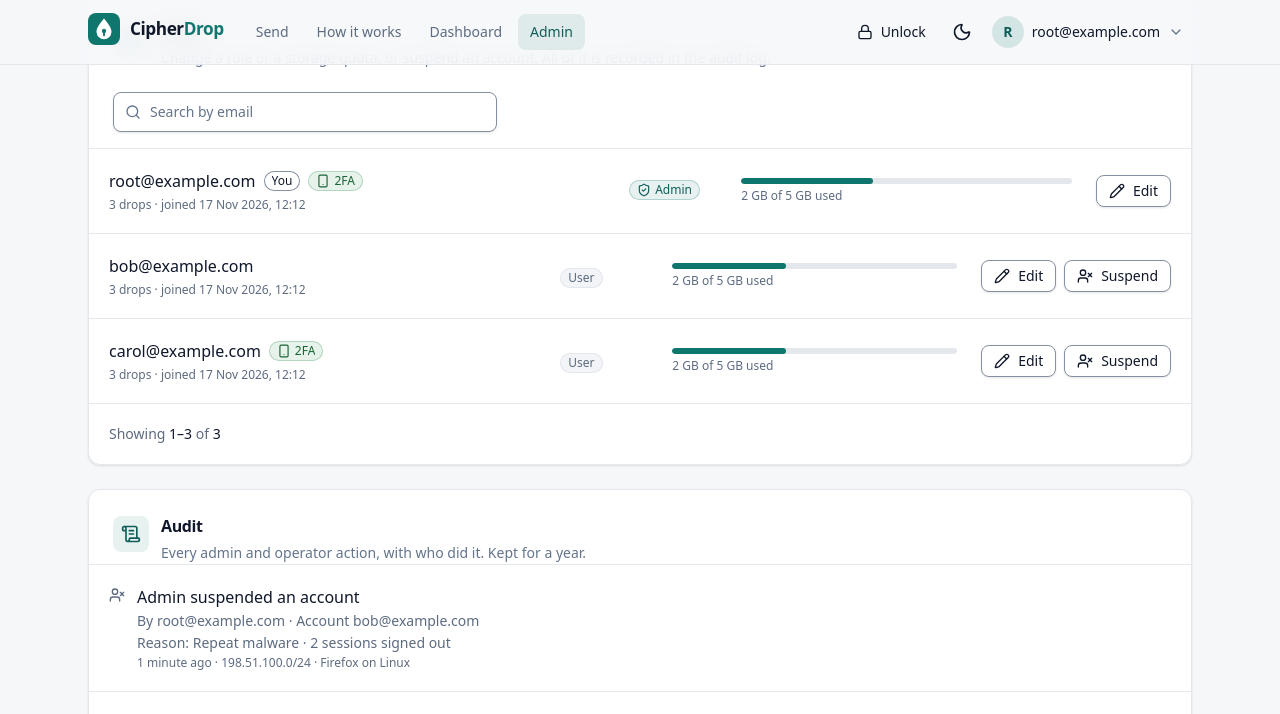
AdminPage users › saves a valid quota in bytes and a role change
This screenshot has width=1280, height=714.
(page scrolled)
Click the button "Edit" in the row of "carol@example.com": (1019, 360) [981,344,1056,376]
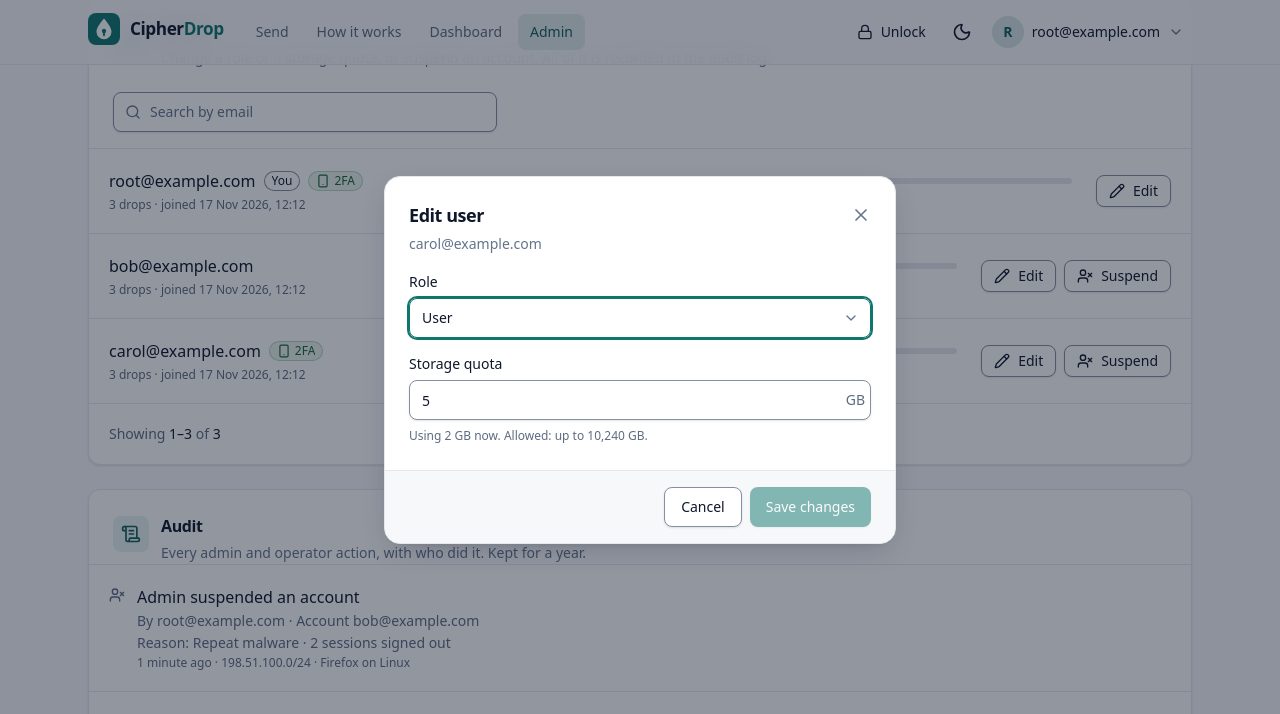
Clear the field labelled "Storage quota": (640, 400) [409,380,871,420]
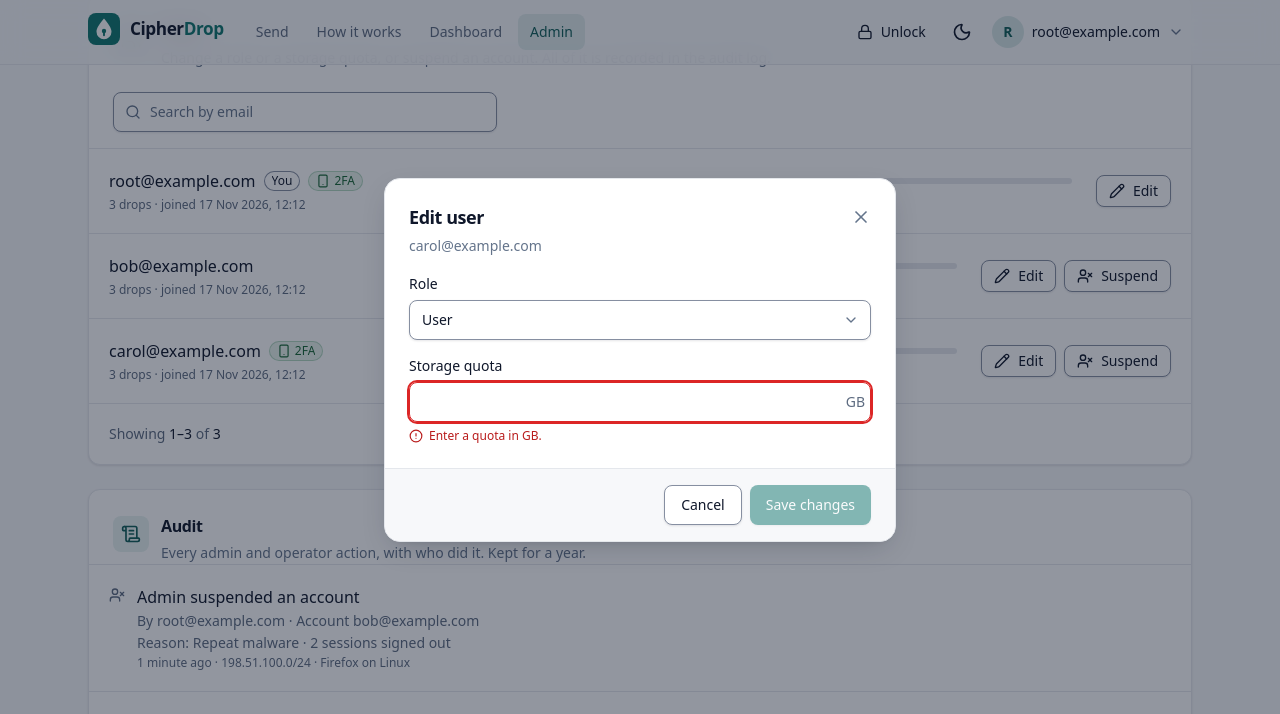
In the field labelled "Storage quota": (640, 402) [409,382,871,422], type "2.5"
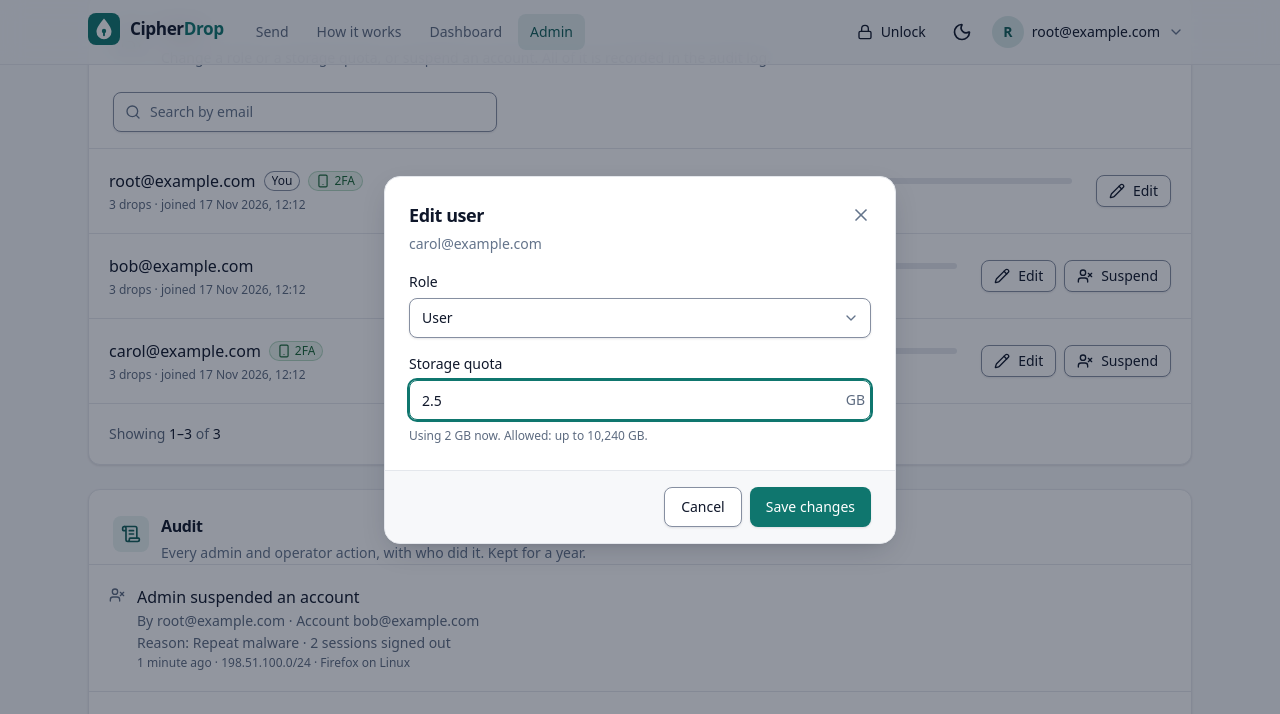
Select "Admin" in the dropdown labelled "Role": (640, 318) [409,298,871,338]
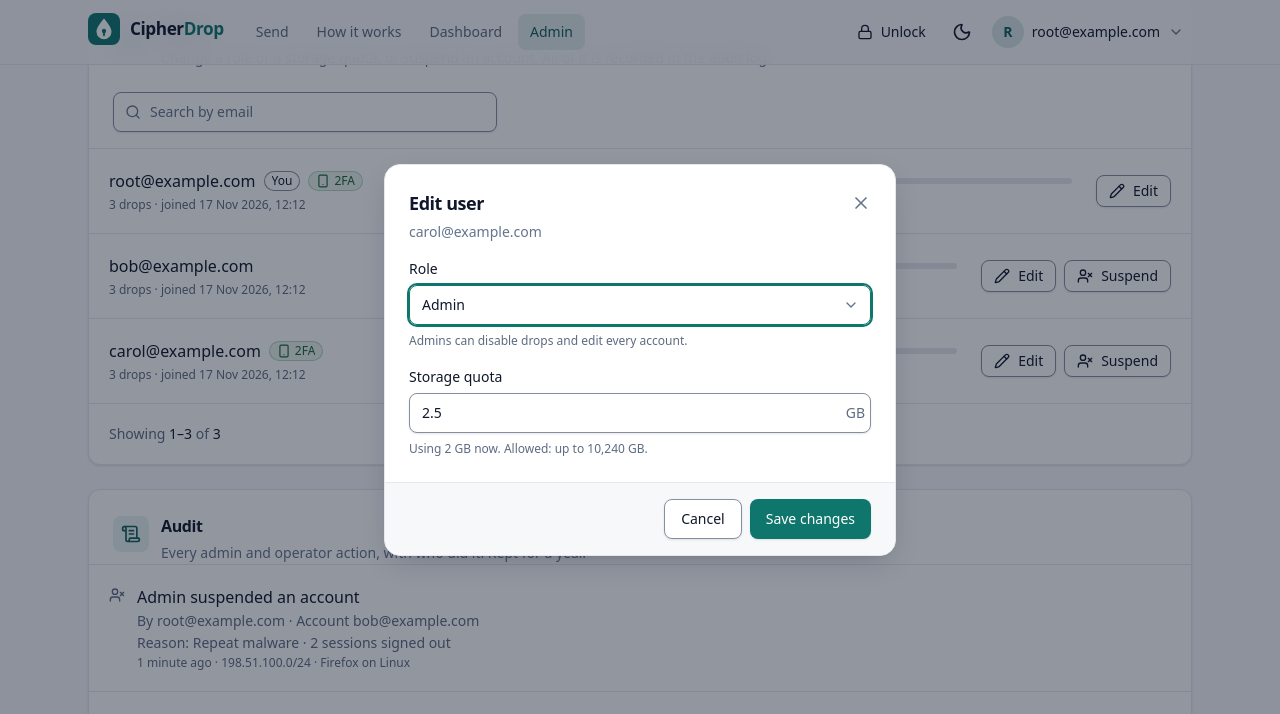
Click the button "Save changes": (810, 519) [750,499,871,539]
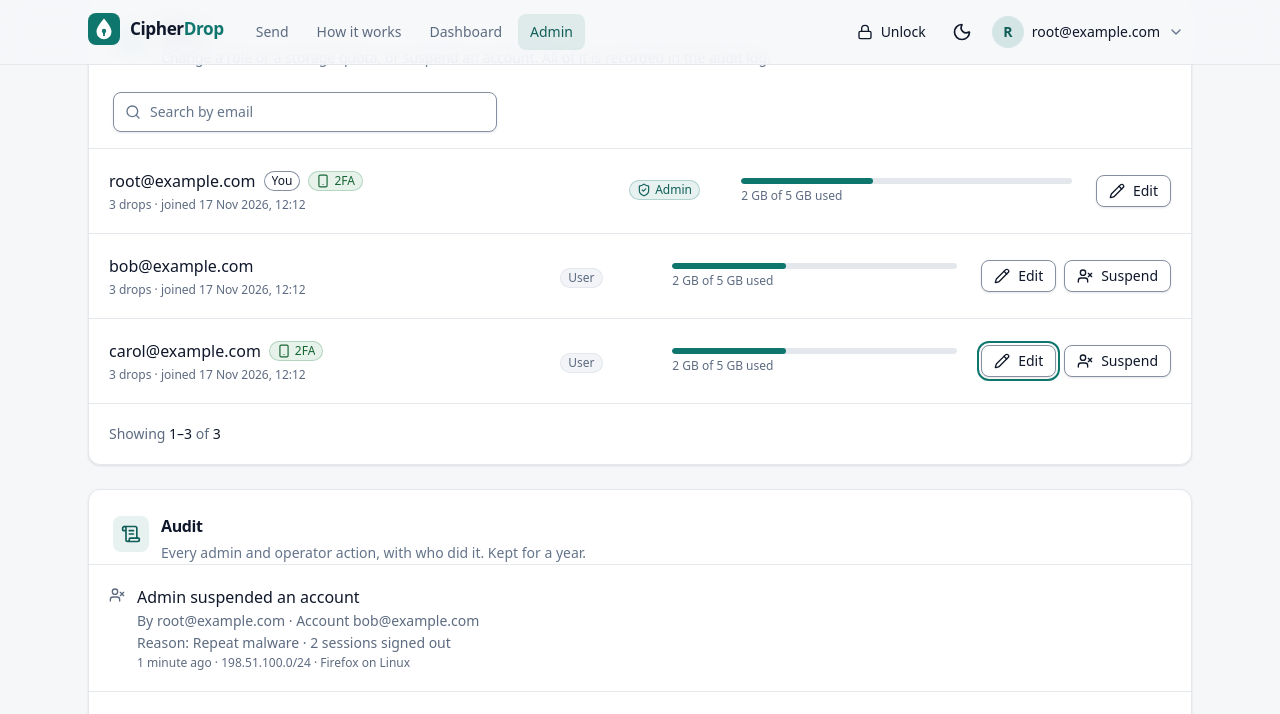
Now the dialog is gone
